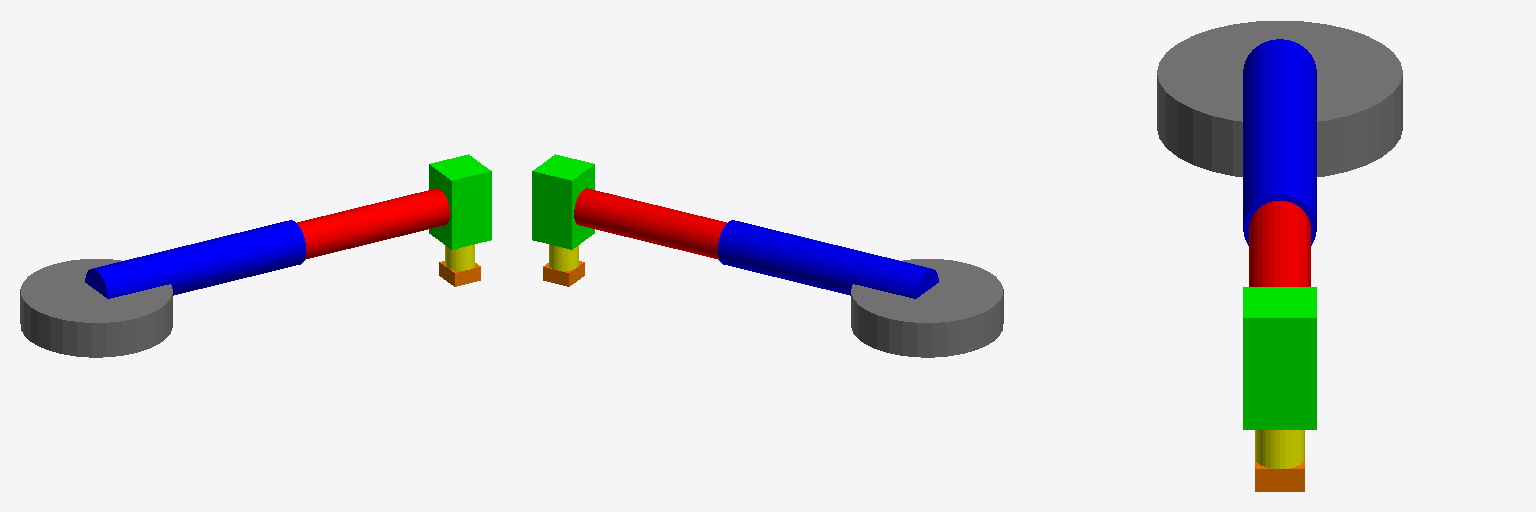
The robot description file, URDF, robot "scara_robot":
<?xml version="1.0"?>
<robot name="scara_robot">

  <!-- Base Link -->
  <link name="base_link">
    <visual>
      <geometry>
        <cylinder radius="0.1" length="0.05"/>
      </geometry>
      <origin xyz="0 0 0.025" rpy="0 0 0"/>
      <material name="gray">
        <color rgba="0.5 0.5 0.5 1"/>
      </material>
    </visual>
    <collision>
      <geometry>
        <cylinder radius="0.1" length="0.05"/>
      </geometry>
      <origin xyz="0 0 0.025" rpy="0 0 0"/>
    </collision>
    <inertial>
      <mass value="1.0"/>
      <origin xyz="0 0 0.025" rpy="0 0 0"/>
      <inertia ixx="0.01" ixy="0" ixz="0" iyy="0.01" iyz="0" izz="0.01"/>
    </inertial>
  </link>

  <!-- Link 1 (First arm segment) -->
  <link name="link1">
    <visual>
      <geometry>
        <cylinder radius="0.03" length="0.3"/>
      </geometry>
      <origin xyz="0.15 0 0" rpy="0 1.57 0"/>
      <material name="blue">
        <color rgba="0 0 1 1"/>
      </material>
    </visual>
    <collision>
      <geometry>
        <cylinder radius="0.03" length="0.3"/>
      </geometry>
      <origin xyz="0.15 0 0" rpy="0 1.57 0"/>
    </collision>
    <inertial>
      <mass value="0.5"/>
      <origin xyz="0.15 0 0" rpy="0 1.57 0"/>
      <inertia ixx="0.005" ixy="0" ixz="0" iyy="0.005" iyz="0" izz="0.005"/>
    </inertial>
  </link>

  <!-- Link 2 (Second arm segment) -->
  <link name="link2">
    <visual>
      <geometry>
        <cylinder radius="0.025" length="0.25"/>
      </geometry>
      <origin xyz="0.125 0 0" rpy="0 1.57 0"/>
      <material name="red">
        <color rgba="1 0 0 1"/>
      </material>
    </visual>
    <collision>
      <geometry>
        <cylinder radius="0.025" length="0.25"/>
      </geometry>
      <origin xyz="0.125 0 0" rpy="0 1.57 0"/>
    </collision>
    <inertial>
      <mass value="0.3"/>
      <origin xyz="0.125 0 0" rpy="0 1.57 0"/>
      <inertia ixx="0.003" ixy="0" ixz="0" iyy="0.003" iyz="0" izz="0.003"/>
    </inertial>
  </link>

  <!-- Link 3 (Vertical sliding mechanism) -->
  <link name="link3">
    <visual>
      <geometry>
        <box size="0.06 0.06 0.1"/>
      </geometry>
      <origin xyz="0 0 0" rpy="0 0 0"/>
      <material name="green">
        <color rgba="0 1 0 1"/>
      </material>
    </visual>
    <collision>
      <geometry>
        <box size="0.06 0.06 0.1"/>
      </geometry>
      <origin xyz="0 0 0" rpy="0 0 0"/>
    </collision>
    <inertial>
      <mass value="0.2"/>
      <origin xyz="0 0 0" rpy="0 0 0"/>
      <inertia ixx="0.002" ixy="0" ixz="0" iyy="0.002" iyz="0" izz="0.002"/>
    </inertial>
  </link>

  <!-- Link 4 (Sliding part) -->
  <link name="link4">
    <visual>
      <geometry>
        <cylinder radius="0.02" length="0.08"/>
      </geometry>
      <origin xyz="0 0 0" rpy="0 0 0"/>
      <material name="yellow">
        <color rgba="1 1 0 1"/>
      </material>
    </visual>
    <collision>
      <geometry>
        <cylinder radius="0.02" length="0.08"/>
      </geometry>
      <origin xyz="0 0 0" rpy="0 0 0"/>
    </collision>
    <inertial>
      <mass value="0.1"/>
      <origin xyz="0 0 0" rpy="0 0 0"/>
      <inertia ixx="0.001" ixy="0" ixz="0" iyy="0.001" iyz="0" izz="0.001"/>
    </inertial>
  </link>

  <!-- End Effector -->
  <link name="end_effector">
    <visual>
      <geometry>
        <box size="0.04 0.04 0.02"/>
      </geometry>
      <origin xyz="0 0 0" rpy="0 0 0"/>
      <material name="orange">
        <color rgba="1 0.5 0 1"/>
      </material>
    </visual>
    <collision>
      <geometry>
        <box size="0.04 0.04 0.02"/>
      </geometry>
      <origin xyz="0 0 0" rpy="0 0 0"/>
    </collision>
    <inertial>
      <mass value="0.05"/>
      <origin xyz="0 0 0" rpy="0 0 0"/>
      <inertia ixx="0.0005" ixy="0" ixz="0" iyy="0.0005" iyz="0" izz="0.0005"/>
    </inertial>
  </link>

  <!-- Joint 1: Base to Link 1 (θ1) -->
  <joint name="joint1" type="revolute">
    <parent link="base_link"/>
    <child link="link1"/>
    <origin xyz="0 0 0.05" rpy="0 0 0"/>
    <axis xyz="0 0 1"/>
    <limit lower="-3.14" upper="3.14" effort="10" velocity="1"/>
    <dynamics damping="0.1" friction="0.1"/>
  </joint>

  <!-- Joint 2: Link 1 to Link 2 (θ2) -->
  <joint name="joint2" type="revolute">
    <parent link="link1"/>
    <child link="link2"/>
    <origin xyz="0.3 0 0" rpy="0 0 0"/>
    <axis xyz="0 0 1"/>
    <limit lower="-3.14" upper="3.14" effort="8" velocity="1"/>
    <dynamics damping="0.1" friction="0.1"/>
  </joint>

  <!-- Joint 3: Link 2 to Link 3 (θ3) -->
  <joint name="joint3" type="revolute">
    <parent link="link2"/>
    <child link="link3"/>
    <origin xyz="0.25 0 0" rpy="0 0 0"/>
    <axis xyz="0 0 1"/>
    <limit lower="-3.14" upper="3.14" effort="5" velocity="1"/>
    <dynamics damping="0.1" friction="0.1"/>
  </joint>

  <!-- Joint 4: Link 3 to Link 4 (d4 - Prismatic) -->
  <joint name="joint4" type="prismatic">
    <parent link="link3"/>
    <child link="link4"/>
    <origin xyz="0 0 -0.05" rpy="0 0 0"/>
    <axis xyz="0 0 1"/>
    <limit lower="-0.1" upper="0.1" effort="5" velocity="0.5"/>
    <dynamics damping="0.1" friction="0.1"/>
  </joint>

  <!-- Joint 5: Link 4 to End Effector (Fixed) -->
  <joint name="joint5" type="fixed">
    <parent link="link4"/>
    <child link="end_effector"/>
    <origin xyz="0 0 -0.05" rpy="0 0 0"/>
  </joint>

  <!-- Materials Definition -->
  <material name="gray">
    <color rgba="0.5 0.5 0.5 1"/>
  </material>

  <material name="blue">
    <color rgba="0 0 1 1"/>
  </material>

  <material name="red">
    <color rgba="1 0 0 1"/>
  </material>

  <material name="green">
    <color rgba="0 1 0 1"/>
  </material>

  <material name="yellow">
    <color rgba="1 1 0 1"/>
  </material>

  <material name="orange">
    <color rgba="1 0.5 0 1"/>
  </material>

</robot>

--- Render facts (derived) ---
3 views of the same robot in one strip: view 1: azimuth 30°, elevation 25°; view 2: azimuth 150°, elevation 25°; view 3: azimuth 270°, elevation 25° (orthographic).
Model scara_robot with 6 links and 5 joints (3 revolute, 1 prismatic, 1 fixed), rooted at base_link, posed every joint at zero.
Links seen in each view (by area): view 1: base_link, link1, link2, link3, link4, end_effector; view 2: base_link, link1, link2, link3, link4, end_effector; view 3: base_link, link1, link3, link2, link4, end_effector.
Boxes of the visible links, x1,y1,x2,y2 form: base_link: [20, 259, 172, 357]; link1: [85, 220, 305, 298]; link2: [297, 188, 449, 259]; link3: [429, 154, 491, 249]; link4: [445, 244, 474, 270]; end_effector: [439, 261, 480, 286]; base_link: [851, 259, 1003, 357]; link1: [718, 220, 938, 298]; link2: [574, 188, 726, 259]; link3: [532, 154, 594, 249]; link4: [549, 244, 578, 270]; end_effector: [543, 261, 584, 286]; base_link: [1157, 21, 1402, 176]; link1: [1243, 39, 1316, 245]; link3: [1243, 287, 1316, 429]; link2: [1249, 201, 1310, 286]; link4: [1255, 430, 1304, 468]; end_effector: [1255, 459, 1304, 491].
Size in the robot's own frame: 0.68 by 0.2 by 0.16 metres.
Geometry: primitives only (box / cylinder / sphere), no mesh files.
